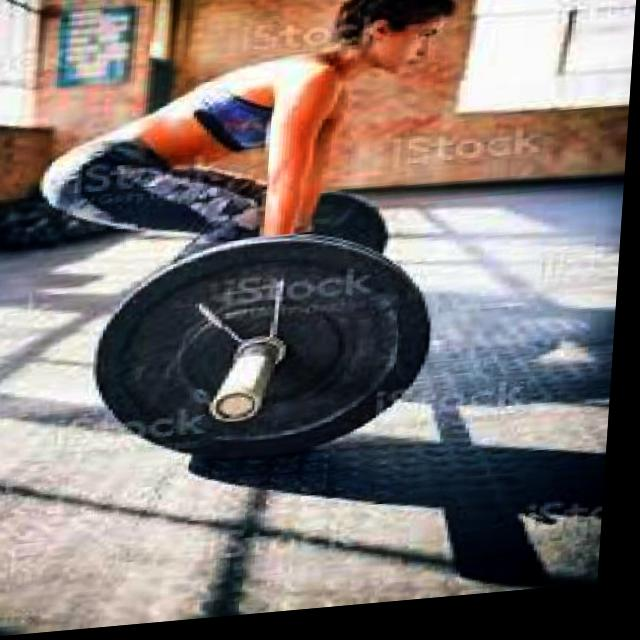barbell: (93, 224, 447, 494)
